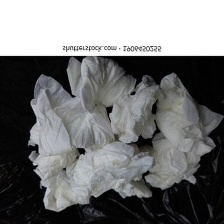tissue: (17, 56, 224, 217)
